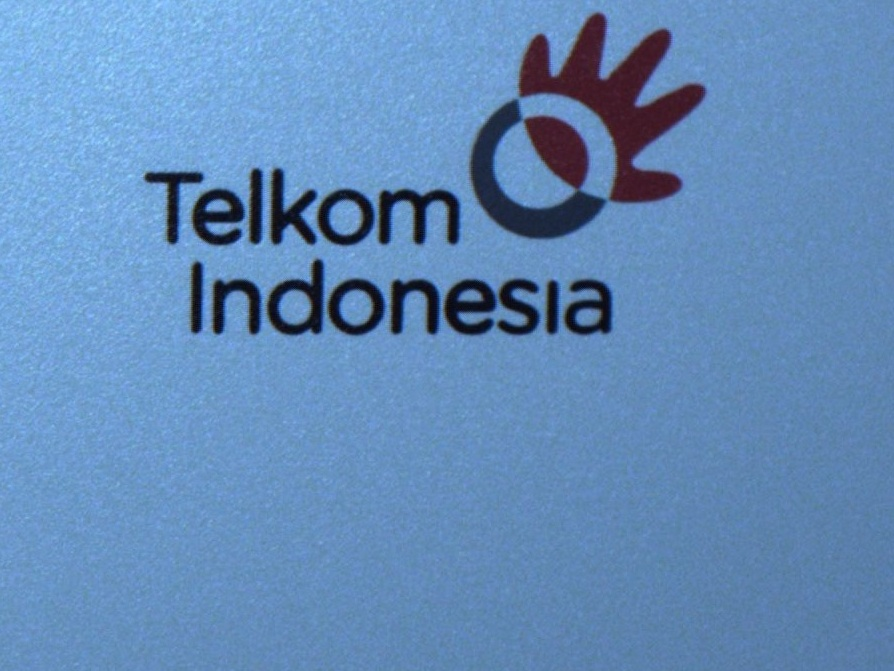BQ_IndonTelkom: (124, 12, 713, 338)
